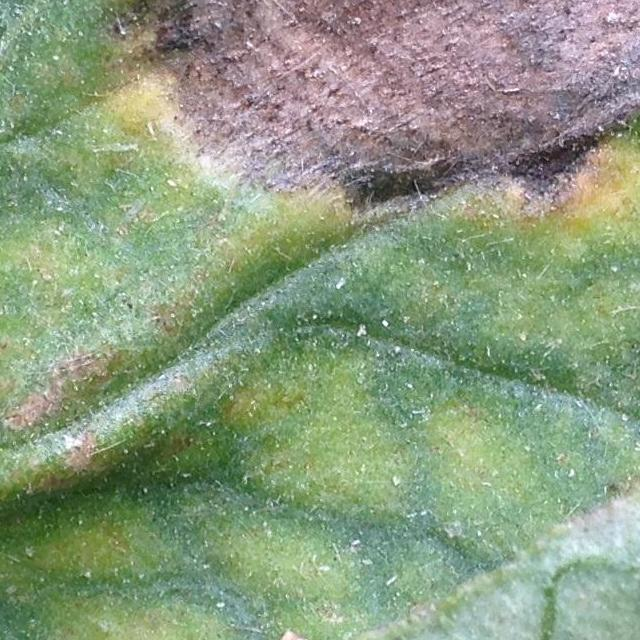Tomato Early blight leaf: (0, 0, 640, 265)
